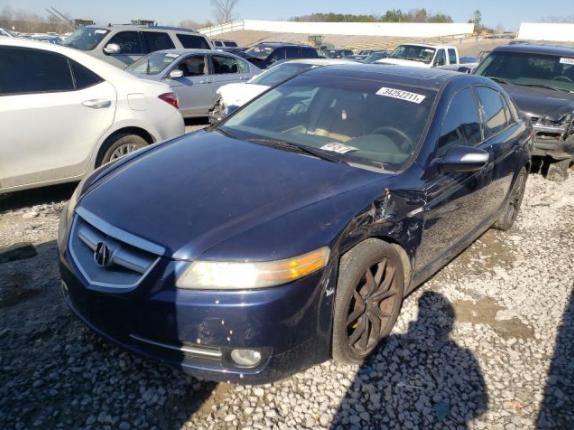Back-door: (471, 83, 521, 228)
Back-wheel: (490, 166, 526, 230)
Back-window: (475, 86, 515, 137)
Fender: (191, 162, 427, 273), (77, 136, 180, 200)
Front-bumper: (57, 201, 339, 384)
Front-door: (416, 84, 493, 277)
Front-wheel: (331, 238, 404, 365)
Front-window: (435, 86, 481, 160)
Grille: (65, 210, 191, 296)
Headlight: (170, 246, 331, 290), (66, 185, 77, 229)
Hood: (75, 129, 393, 260)
Mirror: (433, 145, 489, 174)
Quarter-panel: (515, 111, 534, 175)
Rocker-panel: (405, 210, 501, 295)
Roof: (299, 64, 475, 88)
Windshield: (208, 75, 439, 173)
